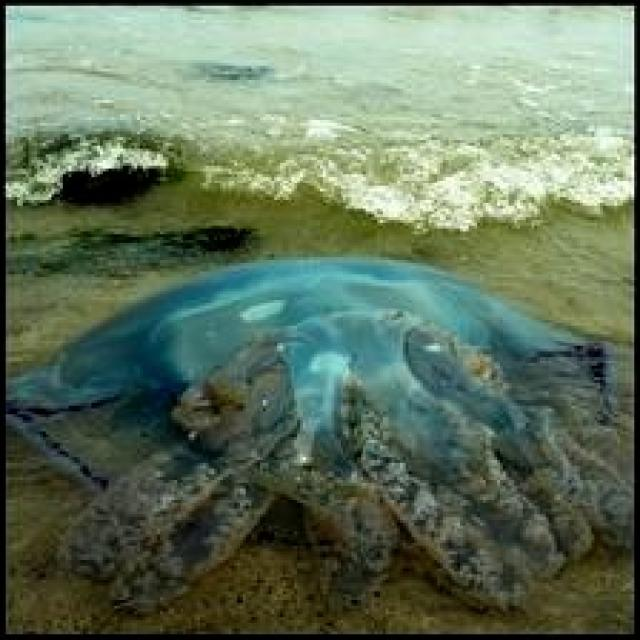Box-jellyfish: (6, 252, 631, 617)
